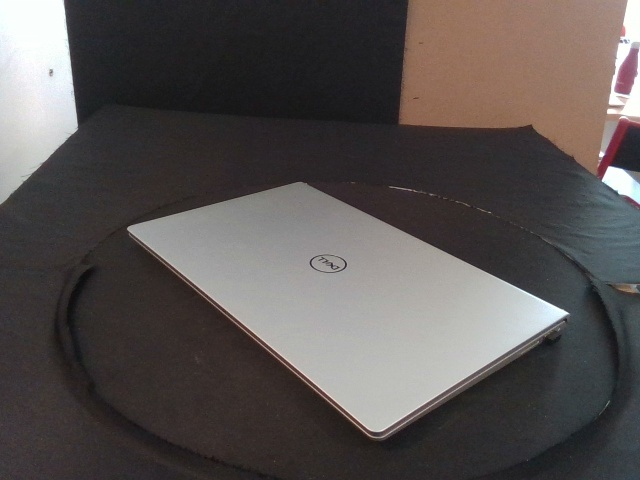laptop: (126, 182, 572, 443)
